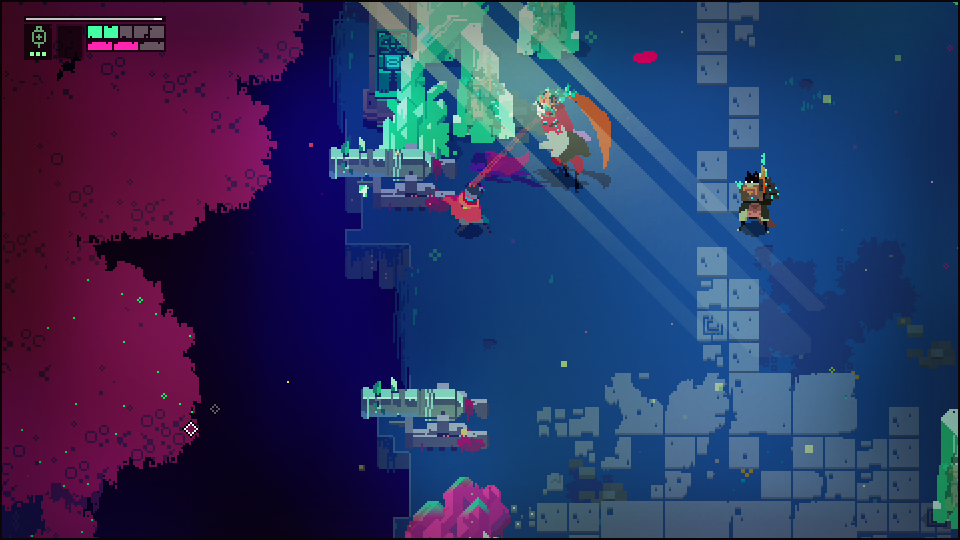hanged_man: (530, 86, 610, 180)
player: (445, 180, 479, 227)
